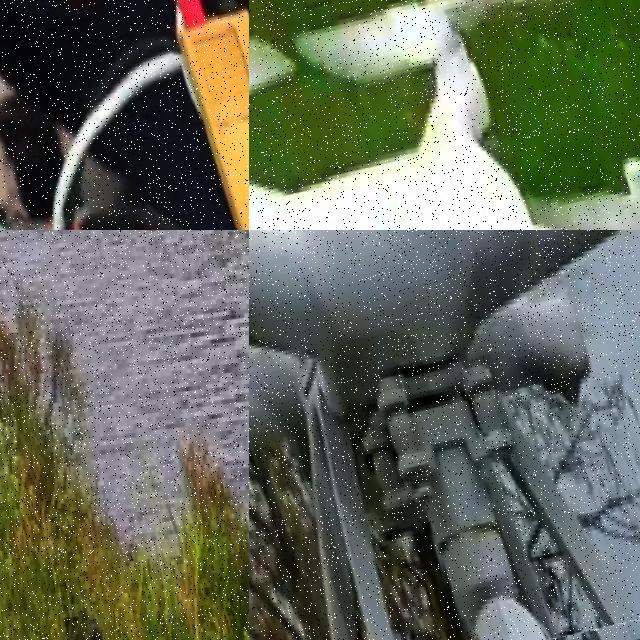drone: (249, 230, 640, 640), (249, 0, 640, 230), (0, 0, 249, 230)
